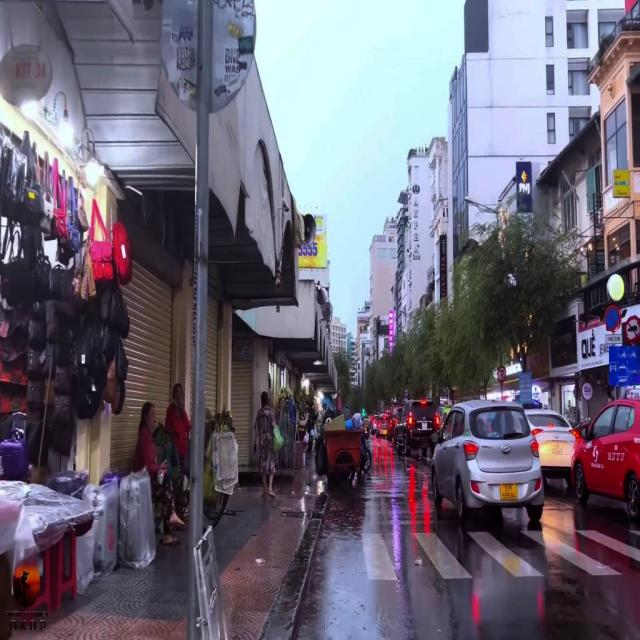cam_do_xe: (606, 304, 621, 331)
cam_o_to_re_trai: (498, 367, 506, 381)
cam_o_to_tai_trong_luong_qua_10t: (625, 315, 640, 344)
khac: (610, 346, 640, 386), (606, 334, 622, 343)
